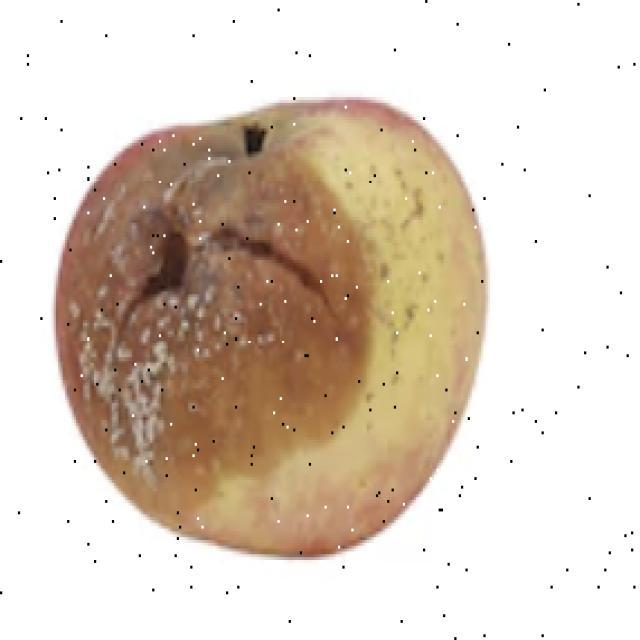Rotten: (68, 90, 500, 565)
